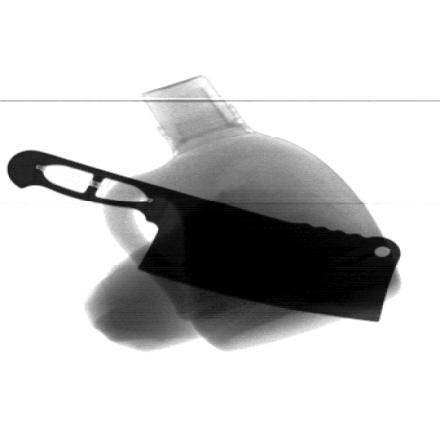Knife: (6, 149, 403, 323)
